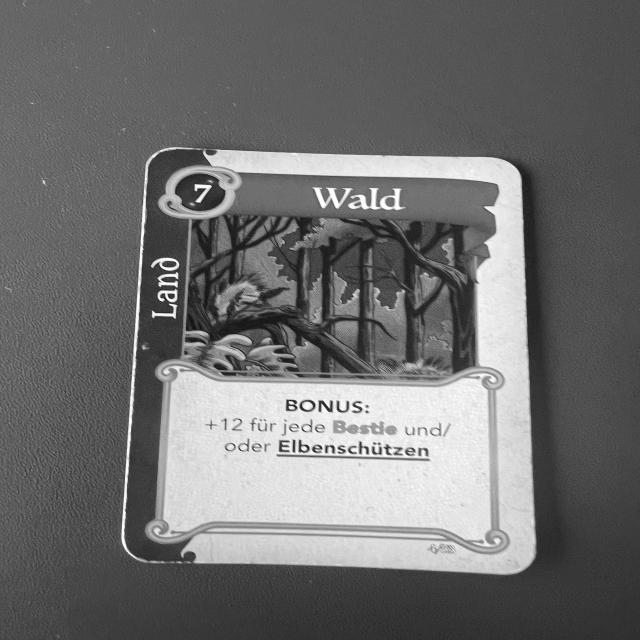Forest: (113, 144, 539, 582)
